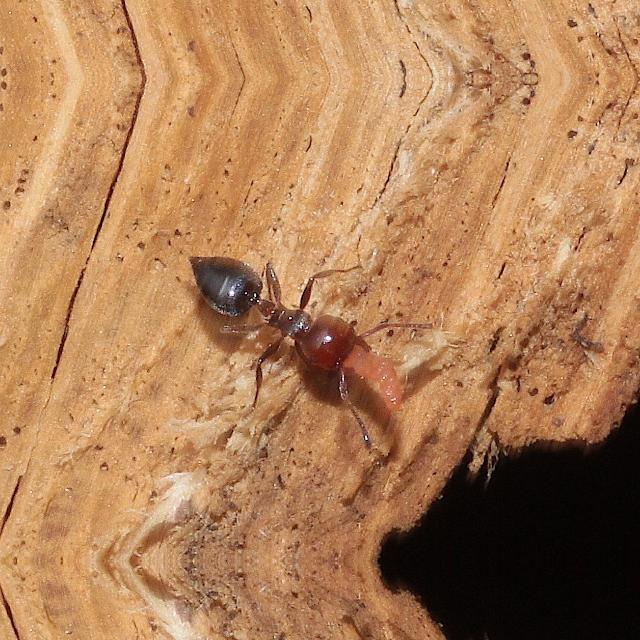Crematogaster: (186, 254, 372, 391)
